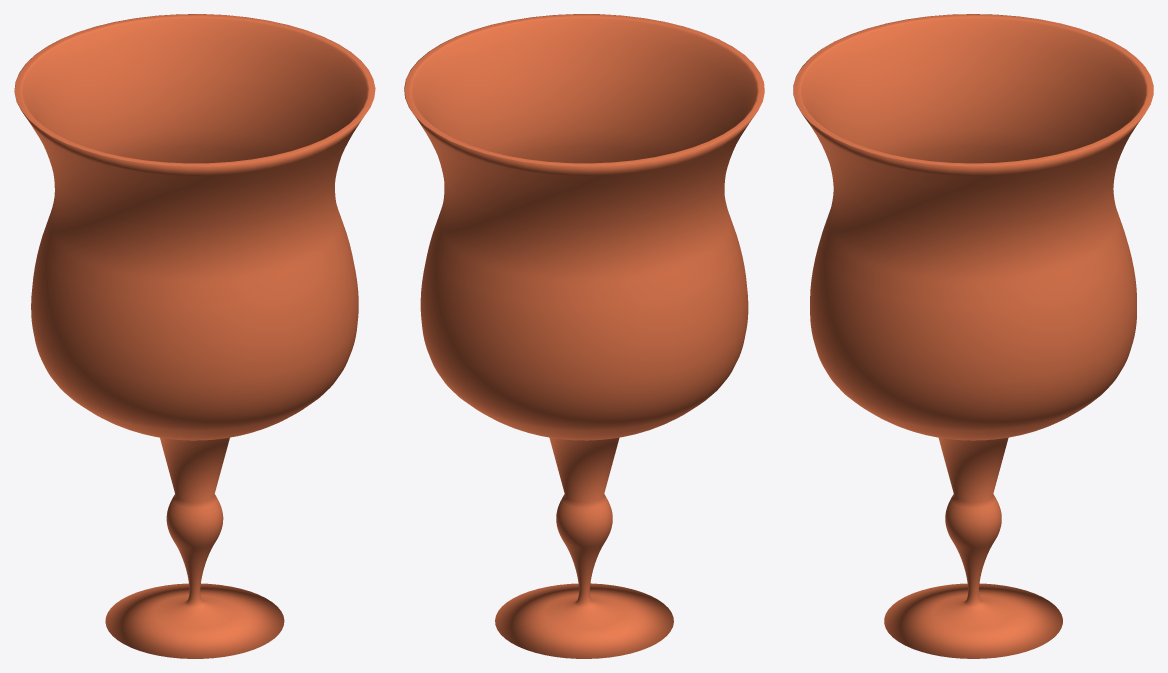
The model's file is Collection_7.fbx.
3 renders of one model, left to right at view 1: azimuth 30°, elevation 25°; view 2: azimuth 150°, elevation 25°; view 3: azimuth 270°, elevation 25°, orthographic.
Parts seen in each view (by area): view 1: KitchenGlasses.007; view 2: KitchenGlasses.007; view 3: KitchenGlasses.007.
Part boxes in pixels (bbox=[...]): KitchenGlasses.007: bbox=[14, 14, 375, 658]; KitchenGlasses.007: bbox=[404, 14, 764, 658]; KitchenGlasses.007: bbox=[793, 14, 1153, 658].
Bounding box in the file's own units: 0.0997 × 0.162 × 0.0996.
